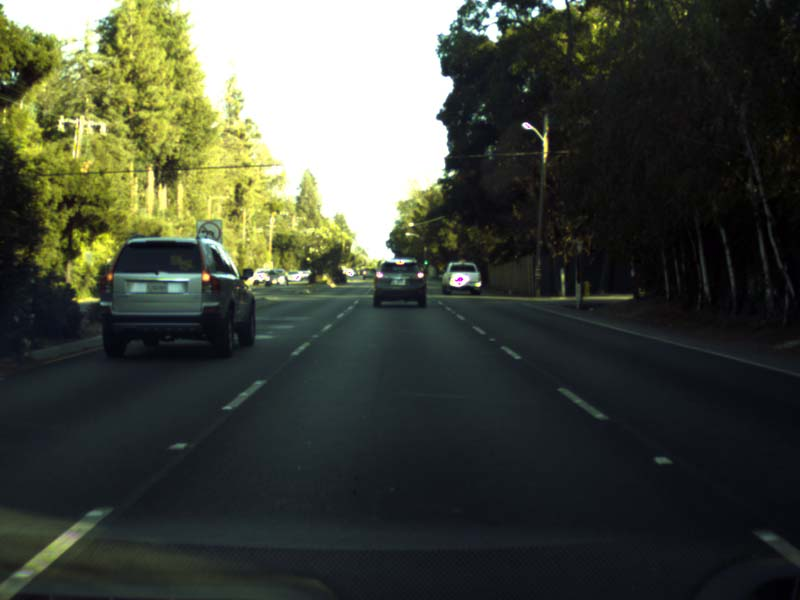Green: (422, 255, 428, 266)
